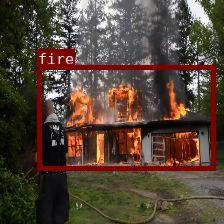fire: (36, 64, 214, 170)
